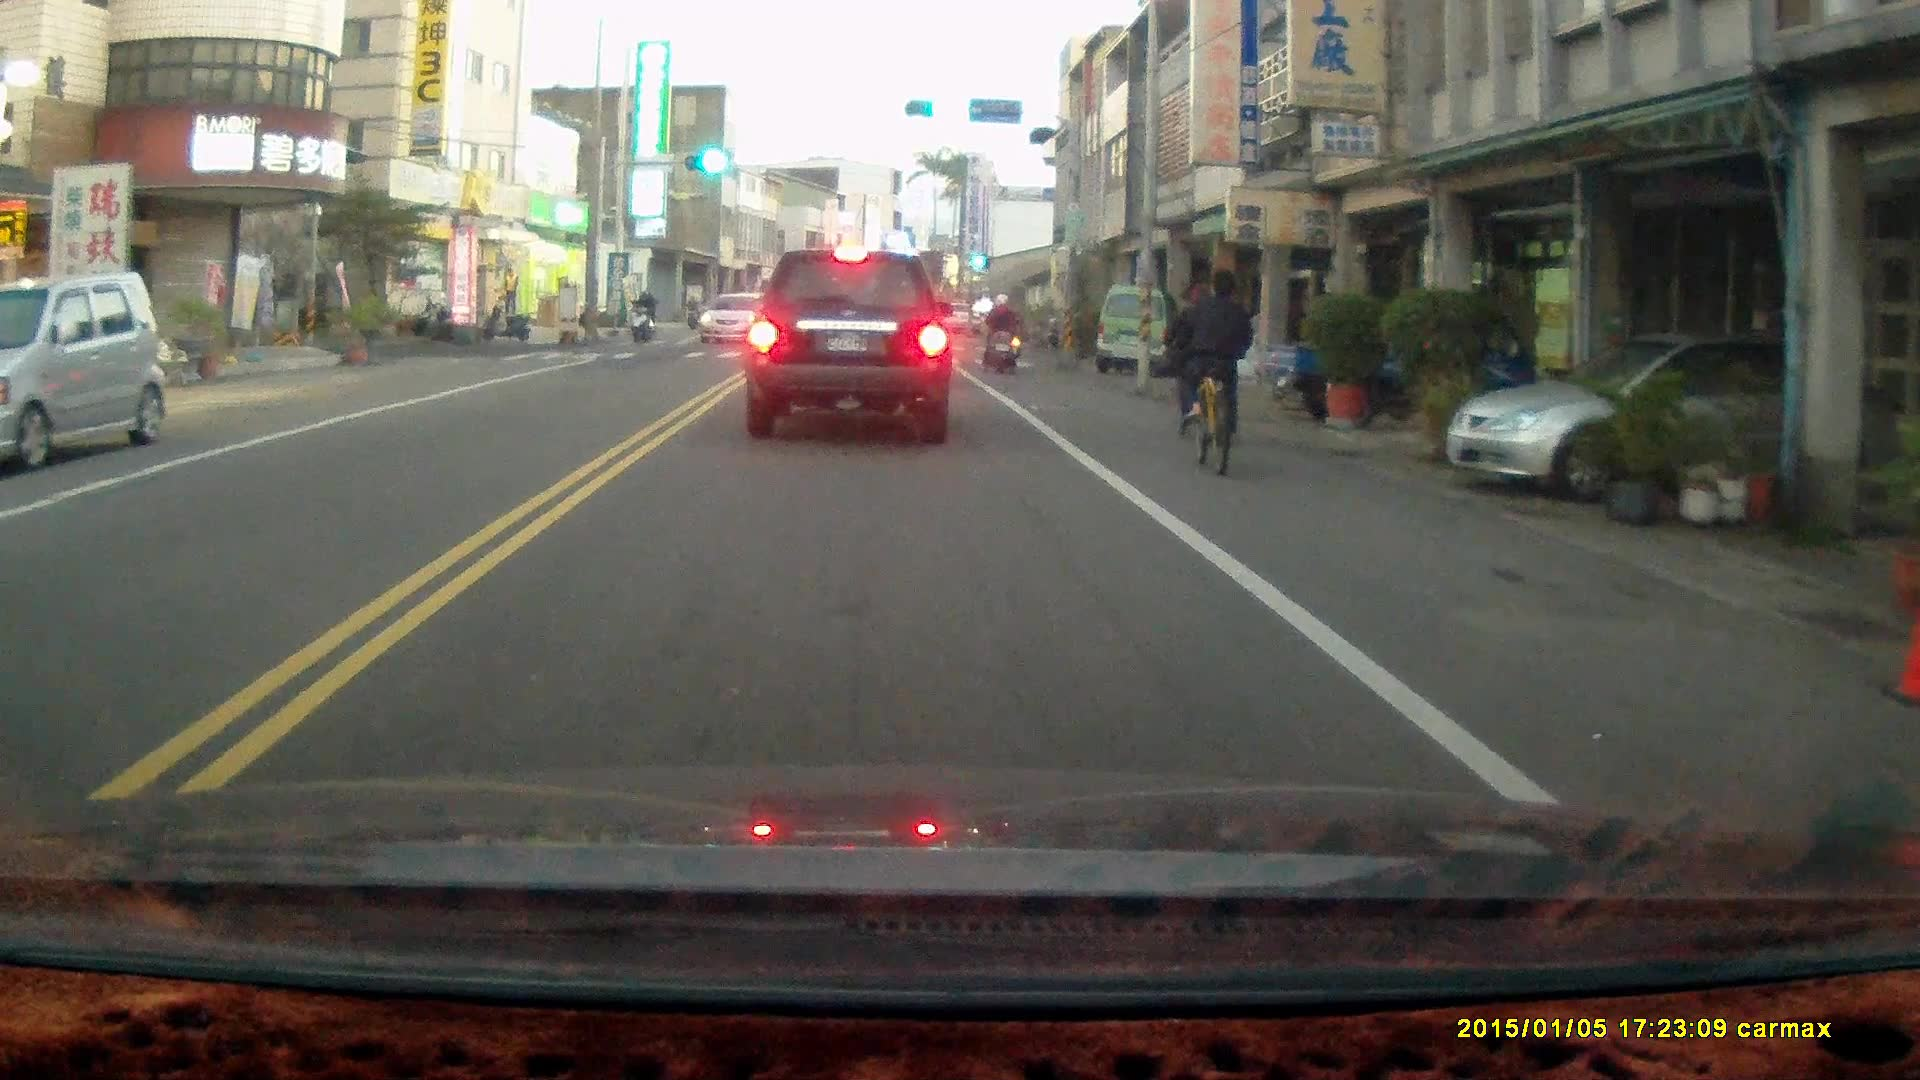pedestrian: (500, 266, 520, 316)
rider: (1183, 262, 1256, 470), (1162, 282, 1222, 442), (978, 288, 1023, 370), (627, 288, 655, 342)
vehicle: (1444, 325, 1873, 497), (742, 248, 957, 448), (1, 272, 171, 478), (1101, 281, 1189, 366)
